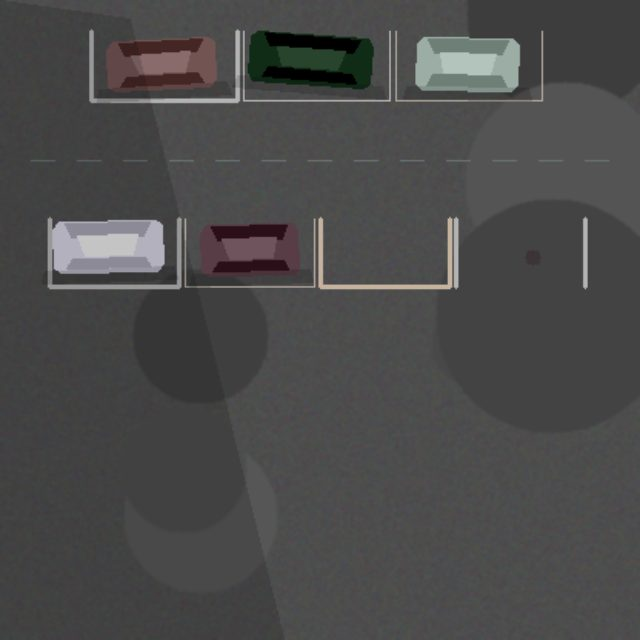space-empty: (455, 218, 585, 286), (320, 218, 449, 286)
space-occupied: (395, 31, 542, 100), (91, 31, 237, 100), (243, 31, 389, 100), (49, 218, 178, 286), (185, 218, 314, 286)
